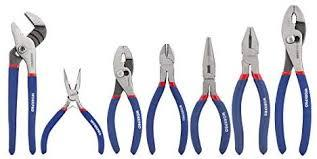pliers: (273, 3, 311, 155), (7, 9, 46, 155), (39, 67, 104, 154), (230, 25, 270, 154), (189, 35, 230, 154), (145, 42, 188, 154), (106, 45, 141, 154)
